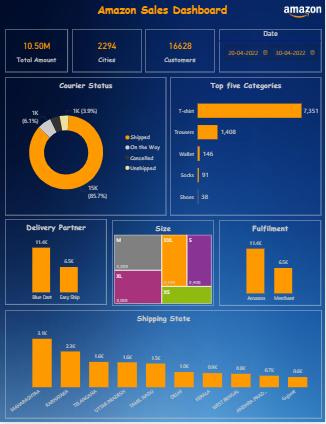

The dashboard page shown, as its layout file describes it:
{"tool":"powerbi","page":{"name":"Page 1","canvas":[816,1056],"ordinal":0},"visuals":[{"type":"textbox","box":[202.9,0,410.1,72.5],"z":0},{"type":"image","box":[713,0,92.8,60.9],"z":1000},{"type":"card","fields":{"Values":["Sum(Amazon Sale Report.Amount)"]},"box":[15.9,73,157.1,107.9],"z":2000},{"type":"slicer","title":"Date","fields":{"Values":["Amazon Sale Report.Date"]},"box":[549.2,73,255.6,107.9],"z":3000},{"type":"card","fields":{"Values":["Count(Amazon Sale Report.ship-city)"]},"box":[182.5,73,174.6,107.9],"z":4000},{"type":"card","fields":{"Values":["Count(Amazon Sale Report.Order ID)"]},"box":[365.1,73,174.6,107.9],"z":5000},{"type":"barChart","title":"Top five Categories","fields":{"Category":["Amazon Sale Report.Category"],"Y":["CountNonNull(Amazon Sale Report.Category)"]},"box":[427,193.7,377.8,346],"z":6000},{"type":"donutChart","title":" Courier Status","fields":{"Category":["Amazon Sale Report.Courier Status"],"Y":["CountNonNull(Amazon Sale Report.Courier Status)"]},"box":[16.2,193.2,402.7,345.9],"z":7000},{"type":"columnChart","title":"Delivery Partner","fields":{"Category":["Amazon Sale Report.fulfilled-by"],"Y":["CountNonNull(Amazon Sale Report.fulfilled-by)"]},"box":[15.8,548.7,253.9,214.5],"z":8000},{"type":"columnChart","title":"Fulfilment","fields":{"Category":["Amazon Sale Report.Fulfilment"],"Y":["CountNonNull(Amazon Sale Report.Fulfilment)"]},"box":[550.6,549.4,255.4,214.5],"z":9000},{"type":"treemap","title":" Size","fields":{"Group":["Amazon Sale Report.Size"],"Values":["CountNonNull(Amazon Sale Report.Size)"]},"box":[282.6,548.9,254.5,214.8],"z":10000},{"type":"clusteredColumnChart","title":"Shipping  State","fields":{"Category":["Amazon Sale Report.ship-state"],"Y":["CountNonNull(Amazon Sale Report.ship-state)"]},"box":[14.5,774.7,791.6,271.1],"z":11000}]}

Visuals, with their boxes in screenshot pixels (x1, y1, x2, y2), scaled from the page's 816x1056 canvas onto the 326x424 screenshot:
textbox: bbox=[81, 0, 245, 29]
image: bbox=[285, 0, 322, 24]
card - Sum(Amazon Sale Report.Amount): bbox=[6, 29, 69, 73]
"Date" slicer: bbox=[219, 29, 322, 73]
card - Count(Amazon Sale Report.ship-city): bbox=[73, 29, 143, 73]
card - Count(Amazon Sale Report.Order ID): bbox=[146, 29, 216, 73]
"Top five Categories" barChart: bbox=[171, 78, 322, 217]
" Courier Status" donutChart: bbox=[6, 78, 167, 216]
"Delivery Partner" columnChart: bbox=[6, 220, 108, 306]
"Fulfilment" columnChart: bbox=[220, 221, 322, 307]
" Size" treemap: bbox=[113, 220, 215, 307]
"Shipping  State" clusteredColumnChart: bbox=[6, 311, 322, 420]
